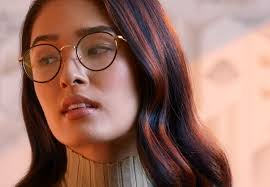face: (27, 23, 141, 150)
